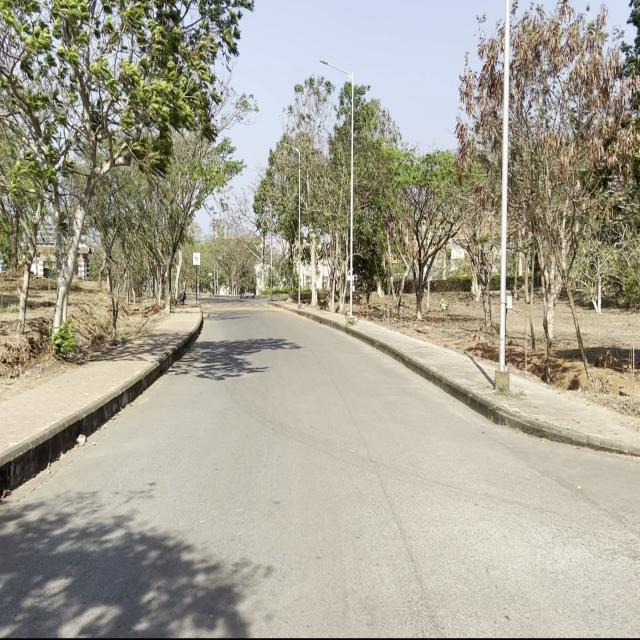Road: (3, 300, 637, 632)
